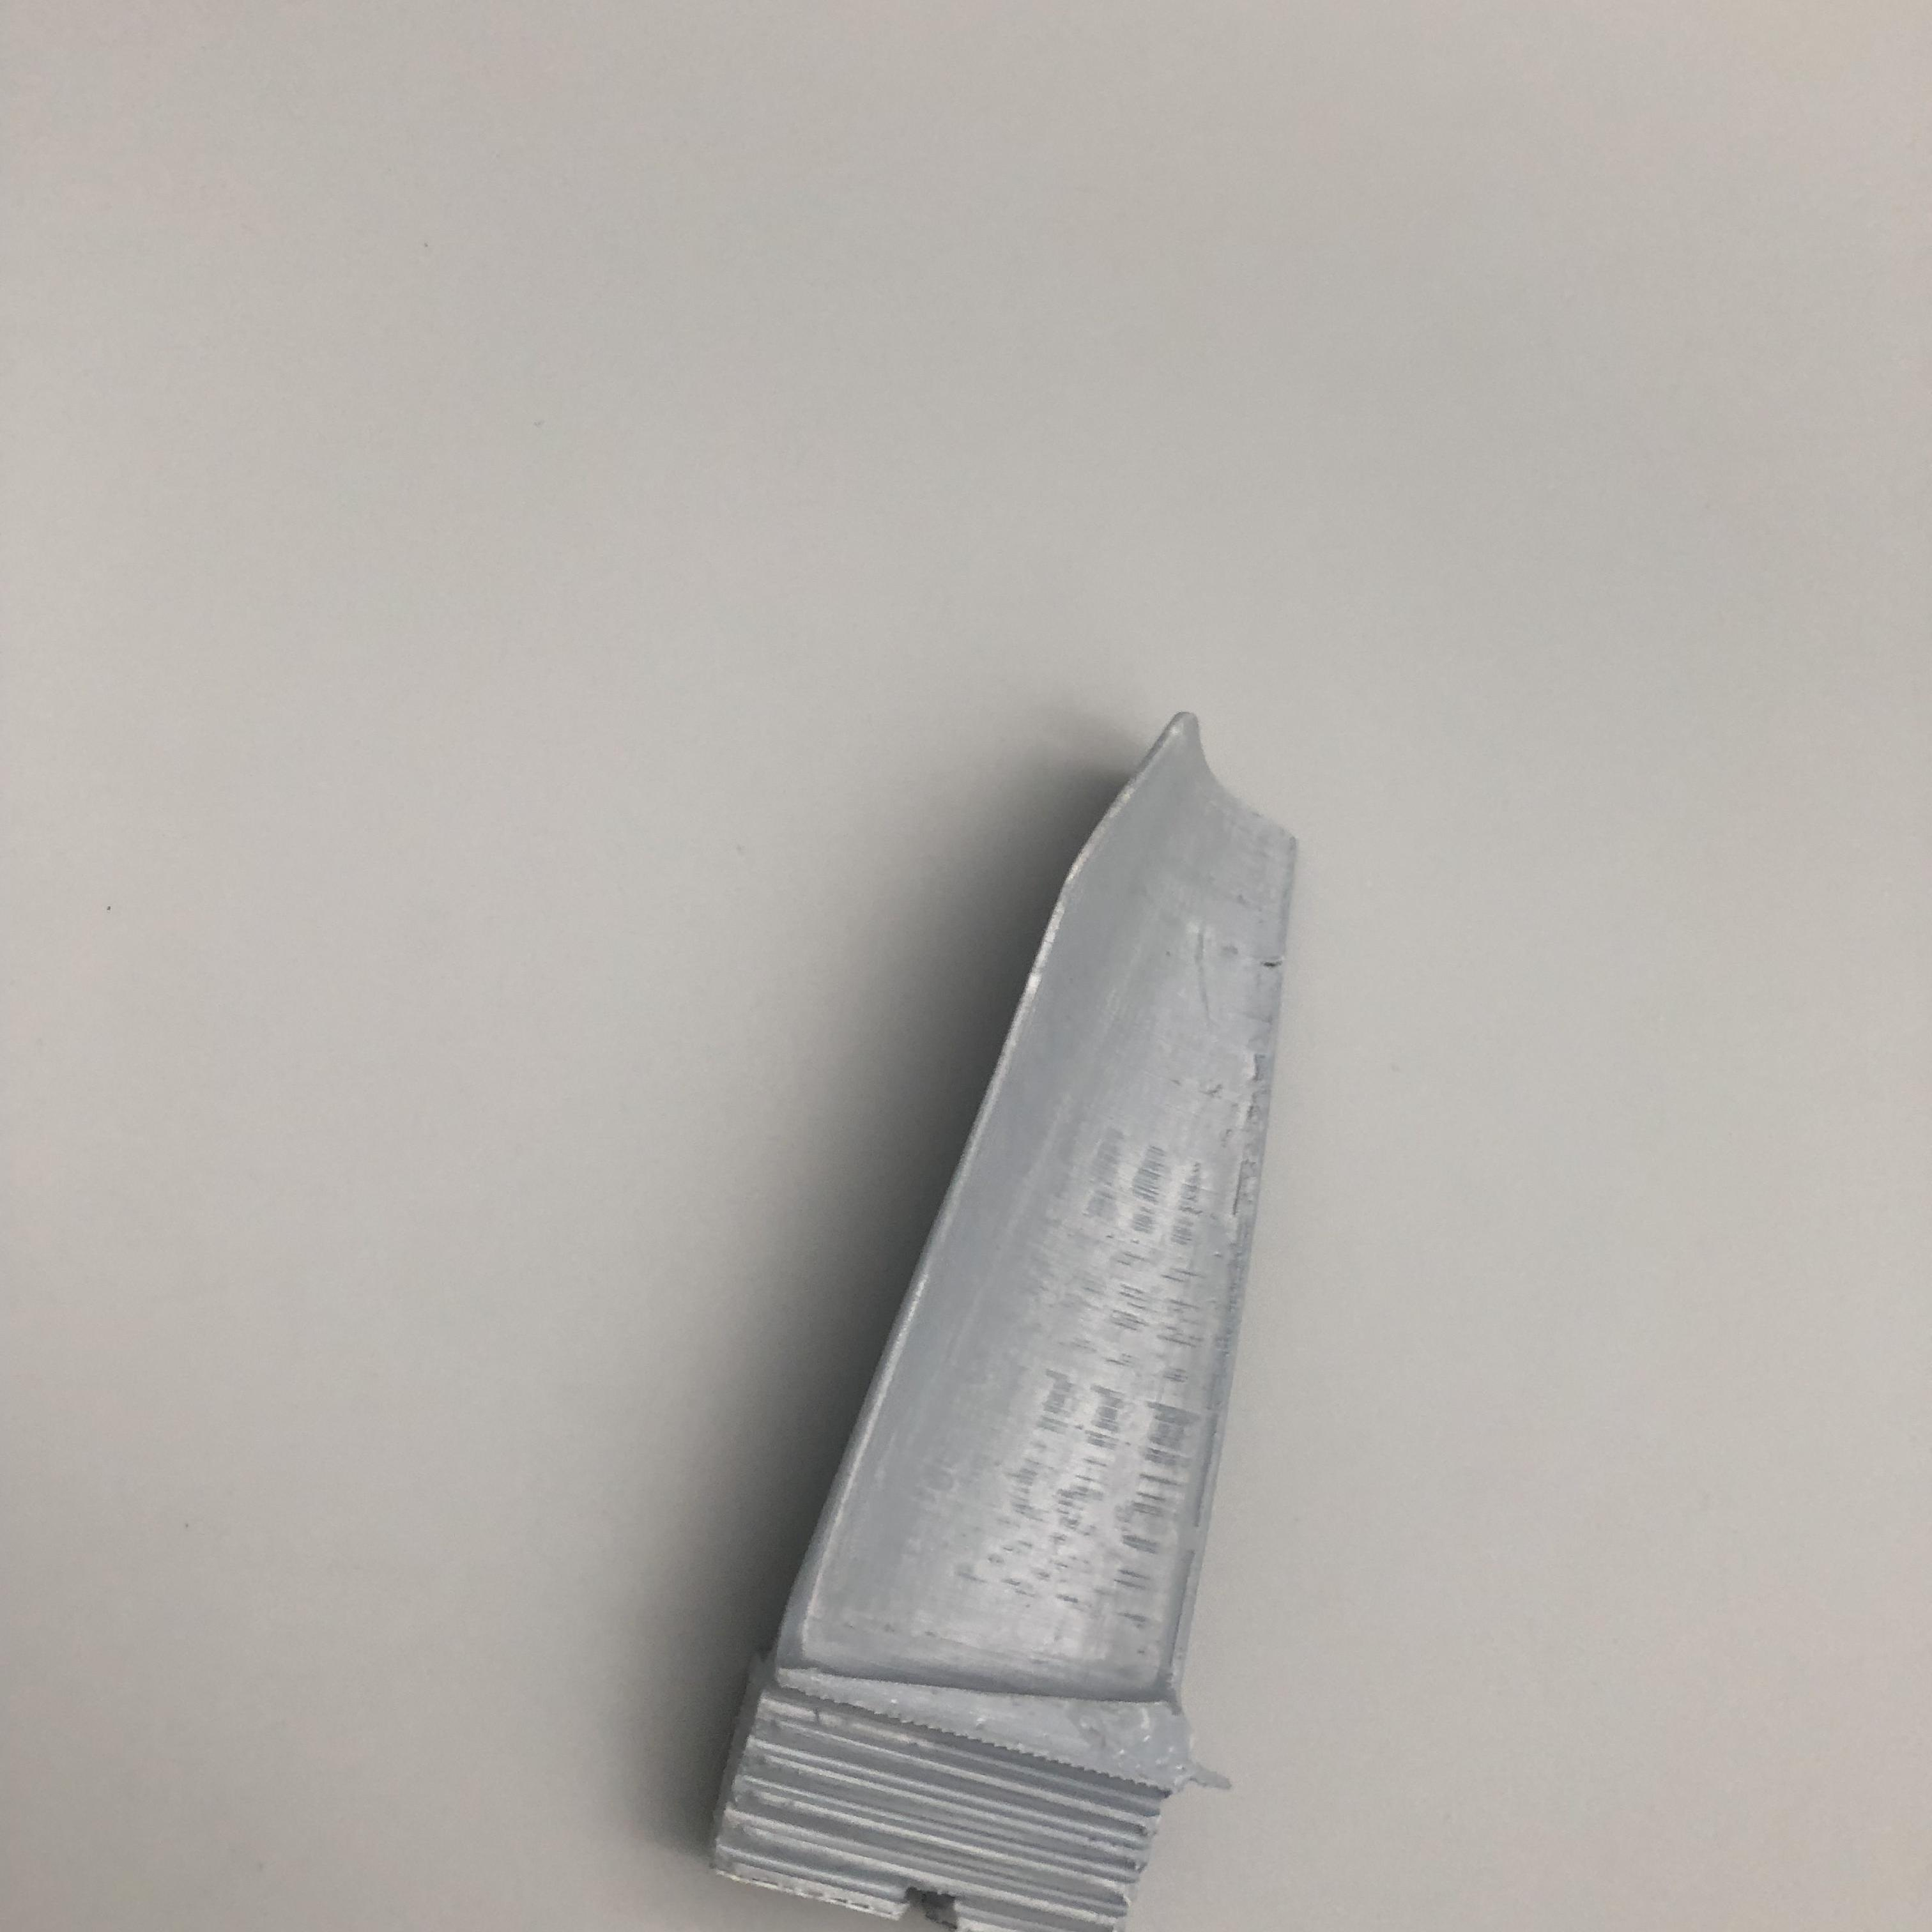groove: (1256, 941, 1295, 985)
